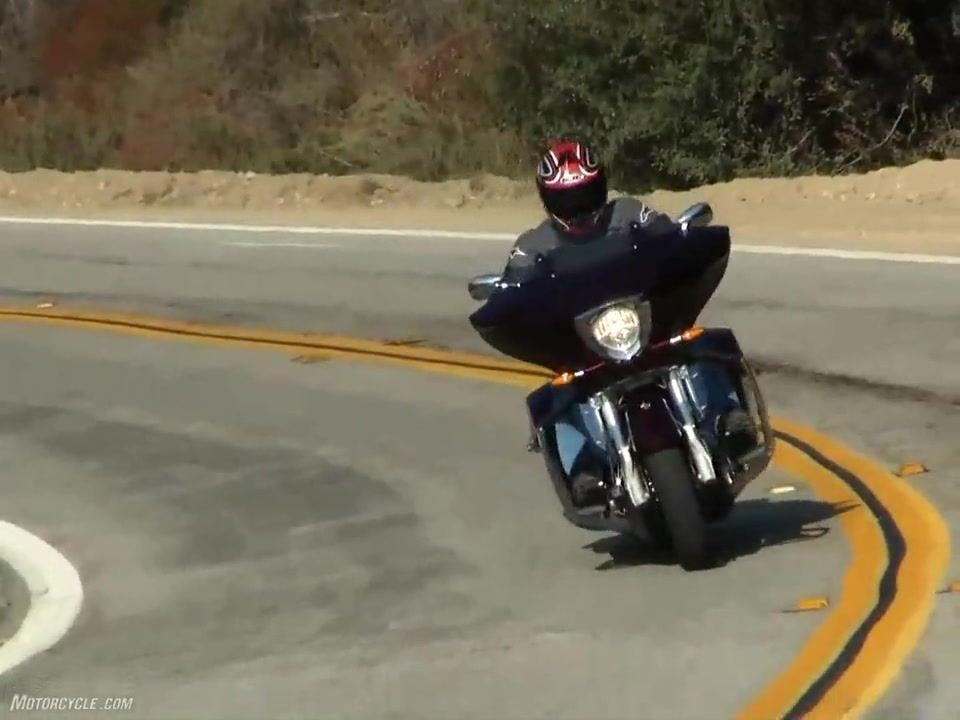motorbike: (469, 202, 776, 559)
